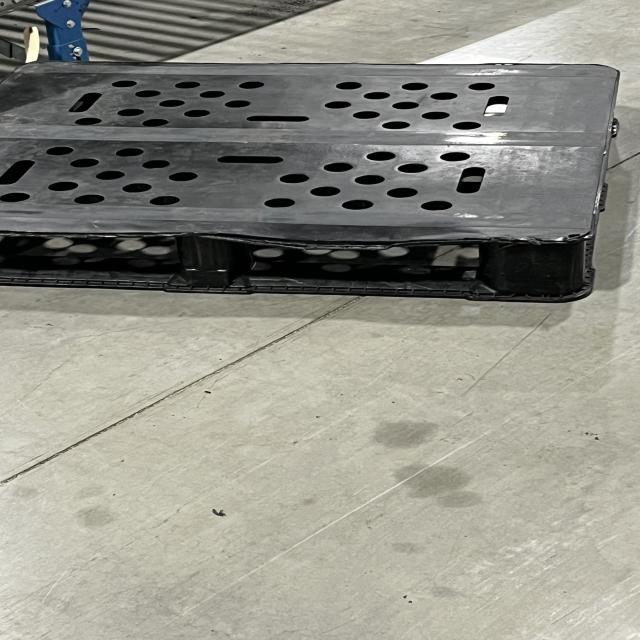igps: (1, 59, 627, 310)
